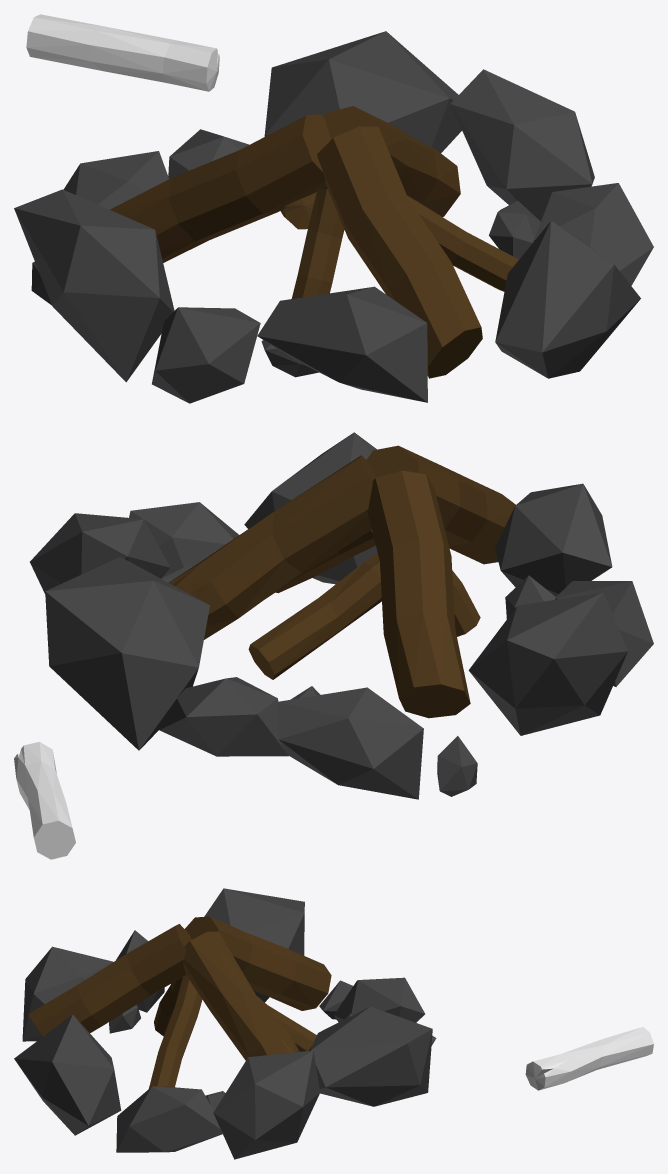
The model's file is Fire.dae.
3 renders of one model, top to bottom at view 1: azimuth 30°, elevation 25°; view 2: azimuth 150°, elevation 25°; view 3: azimuth 270°, elevation 25°, orthographic. The views are drawn at different scales.
Parts seen in each view (by area): view 1: Icosphere.002, Cylinder, Cylinder.002, Icosphere.009, Icosphere.007, Icosphere.004, Icosphere.006, Cylinder.007, Icosphere.003, Icosphere.008, Cylinder.001, Icosphere.001 (+6 smaller); view 2: Icosphere.007, Cylinder.002, Icosphere.002, Cylinder.001, Icosphere.001, Icosphere.004, Icosphere, Cylinder, Icosphere.006, Cylinder.005, Cylinder.007, Icosphere.008 (+6 smaller); view 3: Icosphere.007, Icosphere.006, Icosphere.009, Cylinder, Cylinder.001, Cylinder.002, Icosphere.008, Icosphere.002, Cylinder.007, Icosphere.004, Cylinder.004, Icosphere.001 (+5 smaller).
Part boxes in pixels (x1,y1,x2,y2): Icosphere.002: (14, 189, 174, 382); Cylinder: (317, 126, 482, 378); Cylinder.002: (110, 114, 330, 262); Icosphere.009: (495, 220, 640, 378); Icosphere.007: (264, 31, 461, 188); Icosphere.004: (257, 286, 427, 402); Icosphere.006: (450, 69, 594, 221); Cylinder.007: (26, 14, 219, 91); Icosphere.003: (152, 307, 260, 403); Icosphere.008: (533, 183, 653, 285); Cylinder.001: (324, 106, 460, 216); Icosphere.001: (63, 151, 168, 209); Icosphere.007: (45, 557, 209, 750); Cylinder.002: (367, 470, 470, 718); Icosphere.002: (468, 592, 627, 735); Cylinder.001: (168, 455, 376, 639); Icosphere.001: (276, 687, 423, 799); Icosphere.004: (495, 483, 612, 596); Icosphere: (159, 677, 288, 756); Cylinder: (366, 445, 515, 564); Icosphere.006: (30, 513, 170, 593); Cylinder.005: (248, 553, 381, 679); Cylinder.007: (14, 742, 75, 859); Icosphere.008: (129, 502, 239, 577); Icosphere.007: (310, 1006, 432, 1106); Icosphere.006: (213, 1050, 319, 1159); Icosphere.009: (14, 1014, 121, 1135); Cylinder: (28, 924, 191, 1036); Cylinder.001: (182, 931, 299, 1060); Cylinder.002: (185, 916, 331, 1010); Icosphere.008: (116, 1086, 223, 1152); Icosphere.002: (204, 888, 304, 1002); Cylinder.007: (525, 1027, 653, 1090); Icosphere.004: (22, 946, 112, 1041); Cylinder.004: (149, 975, 202, 1088); Icosphere.001: (334, 977, 424, 1022).
Bounding box in the file's own units: 0.8667 × 1.24 × 0.3395.
